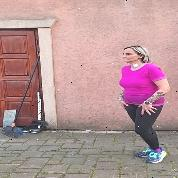lunges: (99, 44, 178, 170)
